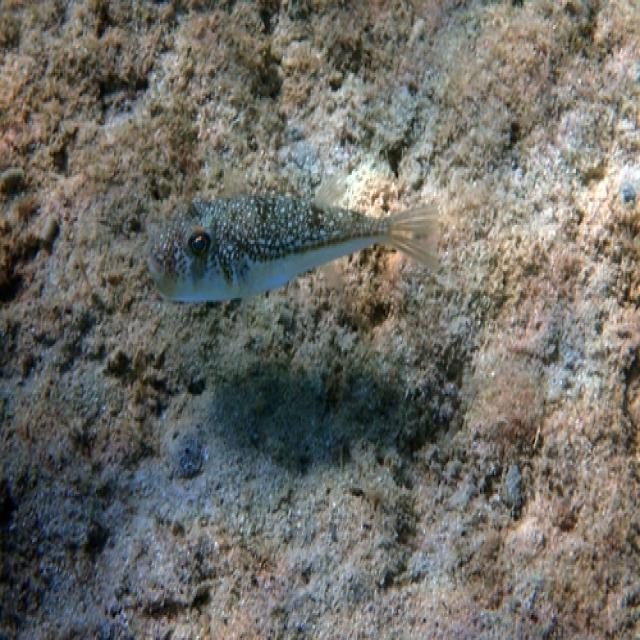Balik: (149, 197, 437, 301)
